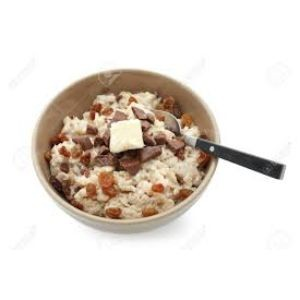oat_brain food: (55, 84, 179, 205)
